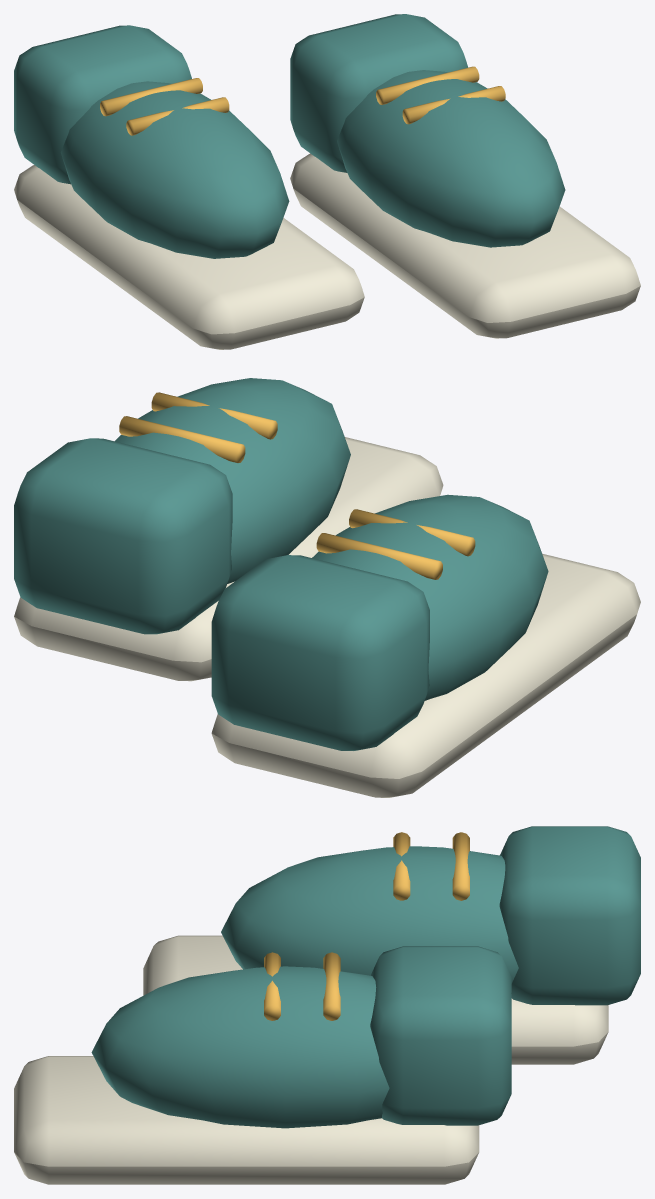
File: shoes.glb
The picture shows the model from 3 angles, top to bottom: view 1: azimuth 30°, elevation 25°; view 2: azimuth 150°, elevation 25°; view 3: azimuth 270°, elevation 25°; orthographic projection. The views are drawn at different scales.
Parts seen in each view (by area): view 1: Shoe upper, Shoe upper.001, Rubber sole.001, Rubber sole, Ankle cuff.001, Ankle cuff, Laces.004, Laces.001, Laces, Laces.003; view 2: Ankle cuff, Ankle cuff.001, Rubber sole, Shoe upper, Shoe upper.001, Rubber sole.001, Laces.004, Laces.001, Laces.003, Laces; view 3: Shoe upper.001, Rubber sole.001, Shoe upper, Ankle cuff.001, Ankle cuff, Rubber sole, Laces.004, Laces.001, Laces, Laces.003.
Boxes of the visible parts, left/top/right/bottom form: Shoe upper: left=60, top=81, right=289, bottom=258; Shoe upper.001: left=337, top=70, right=565, bottom=247; Rubber sole.001: left=290, top=153, right=640, bottom=338; Rubber sole: left=14, top=165, right=364, bottom=349; Ankle cuff.001: left=290, top=14, right=468, bottom=172; Ankle cuff: left=14, top=25, right=191, bottom=184; Laces.004: left=376, top=66, right=479, bottom=104; Laces.001: left=100, top=78, right=202, bottom=116; Laces: left=126, top=97, right=229, bottom=135; Laces.003: left=402, top=86, right=505, bottom=124; Ankle cuff: left=211, top=555, right=429, bottom=750; Ankle cuff.001: left=14, top=438, right=232, bottom=634; Rubber sole: left=211, top=553, right=640, bottom=797; Shoe upper: left=312, top=494, right=548, bottom=700; Shoe upper.001: left=115, top=378, right=350, bottom=583; Rubber sole.001: left=14, top=437, right=443, bottom=681; Laces.004: left=119, top=416, right=245, bottom=462; Laces.001: left=316, top=533, right=442, bottom=579; Laces.003: left=151, top=392, right=277, bottom=439; Laces: left=349, top=509, right=475, bottom=556; Shoe upper.001: left=91, top=966, right=389, bottom=1128; Rubber sole.001: left=14, top=1056, right=479, bottom=1184; Shoe upper: left=221, top=846, right=518, bottom=993; Ankle cuff.001: left=370, top=946, right=511, bottom=1125; Ankle cuff: left=499, top=826, right=640, bottom=1005; Rubber sole: left=143, top=935, right=608, bottom=1064; Laces.004: left=323, top=952, right=340, bottom=1020; Laces.001: left=452, top=832, right=469, bottom=900; Laces: left=393, top=832, right=410, bottom=900; Laces.003: left=264, top=952, right=280, bottom=1020.
Bounding box in the file's own units: 1.95 × 0.77 × 2.42.
